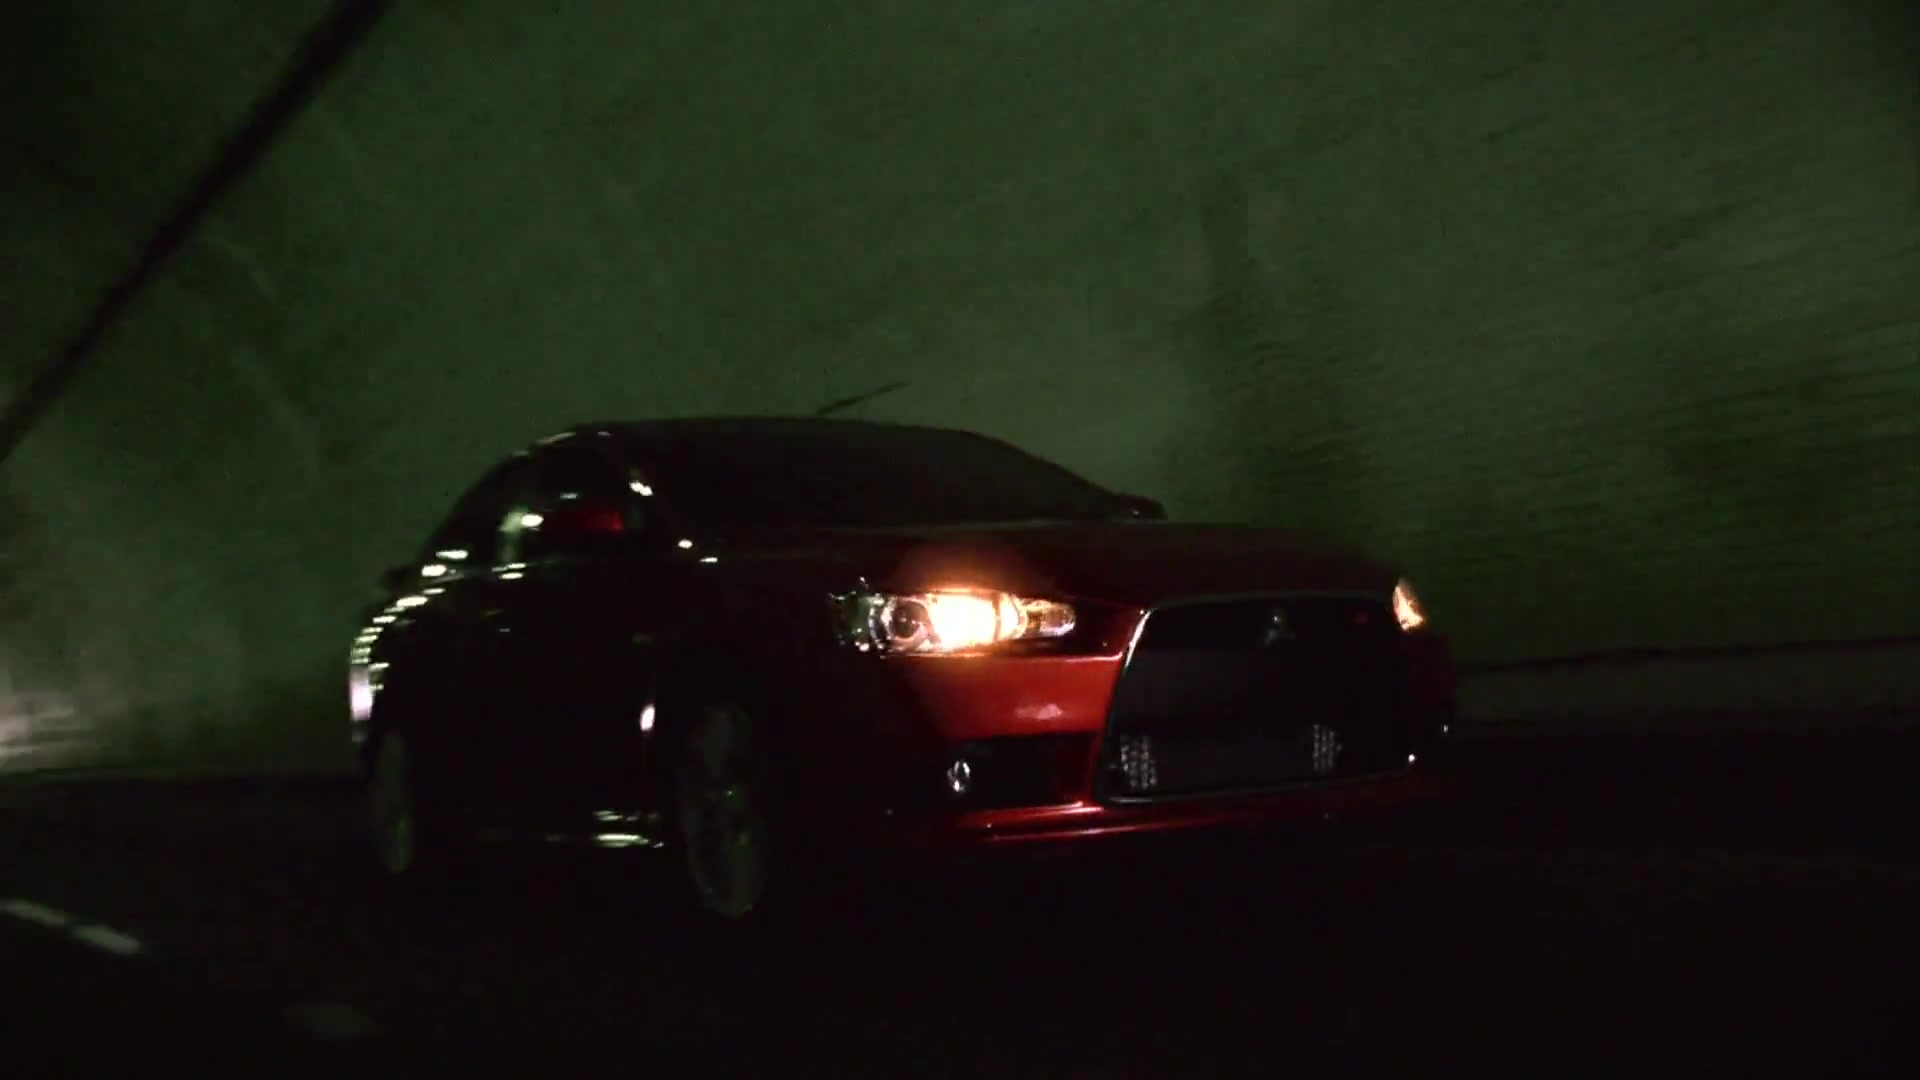car: (339, 414, 1473, 936)
